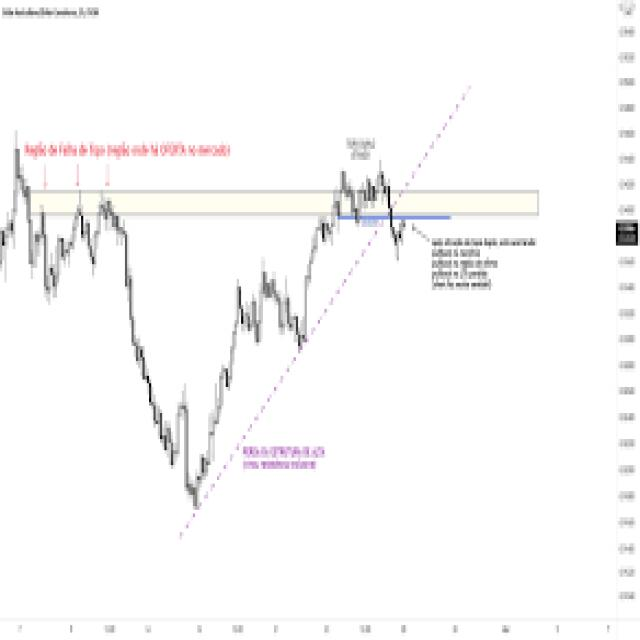topo_duplo: (49, 179, 140, 336)
